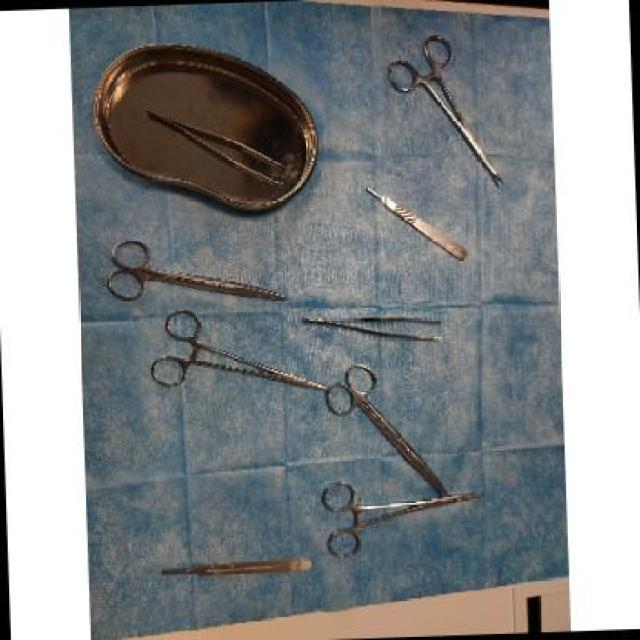tools_table: (76, 4, 522, 594)
